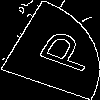P: (25, 24, 100, 75)
